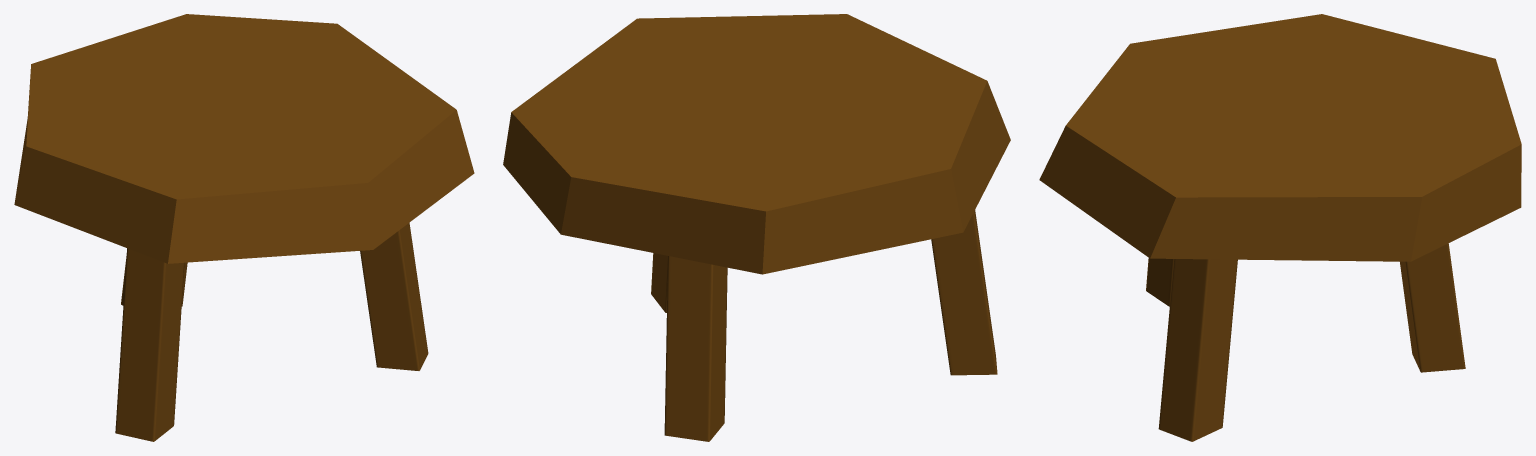
3 renders of one model, left to right at view 1: azimuth 30°, elevation 25°; view 2: azimuth 150°, elevation 25°; view 3: azimuth 270°, elevation 25°, orthographic. The views are drawn at different scales.
Visible parts, largest first — view 1: stool; view 2: stool; view 3: stool.
Part boxes in pixels (x1,y1,x2,y2): stool: (14,14,474,441); stool: (503,14,1010,441); stool: (1039,14,1521,441).
Bounding box in the file's own units: 0.855 × 0.52 × 0.892.
